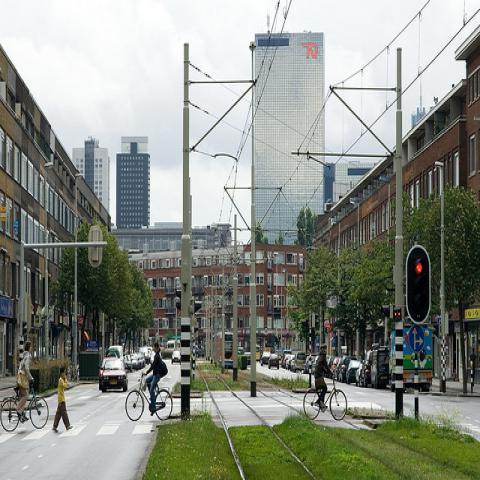bus: (216, 330, 234, 367)
car: (109, 324, 433, 397), (101, 359, 129, 393), (99, 357, 120, 391), (346, 360, 361, 383), (290, 352, 306, 372), (356, 362, 366, 387), (260, 350, 272, 366), (330, 356, 340, 375), (269, 353, 279, 369), (305, 357, 315, 373), (285, 355, 295, 369), (172, 351, 181, 365), (312, 356, 318, 374), (244, 352, 251, 364)
truck: (388, 328, 441, 392), (371, 342, 390, 389), (355, 363, 371, 388), (292, 351, 307, 373), (255, 338, 262, 364), (281, 349, 291, 367)
